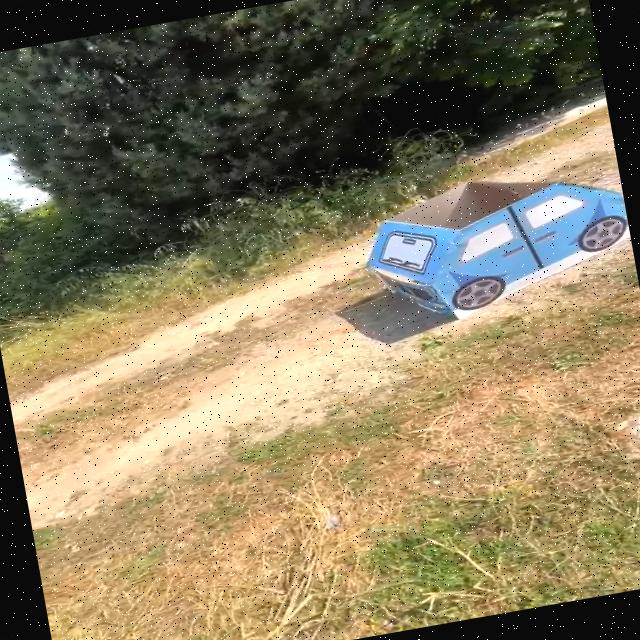blue_car: (314, 130, 640, 354)
